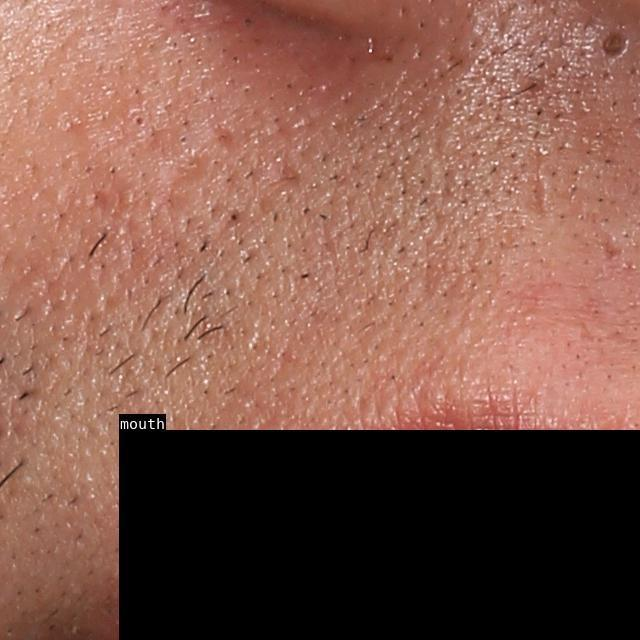atrophic_scar: (154, 154, 219, 227), (599, 228, 629, 279), (530, 153, 547, 233), (210, 108, 236, 152), (275, 153, 304, 192)
comedo: (596, 24, 632, 63), (131, 112, 149, 128)
